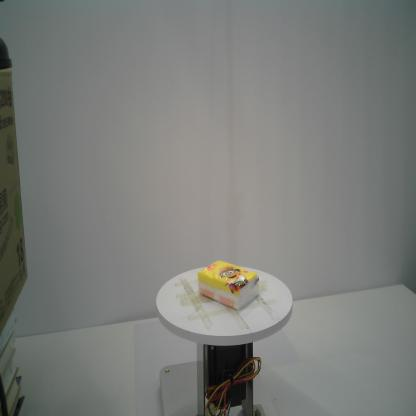Tissue: (198, 260, 260, 311)
